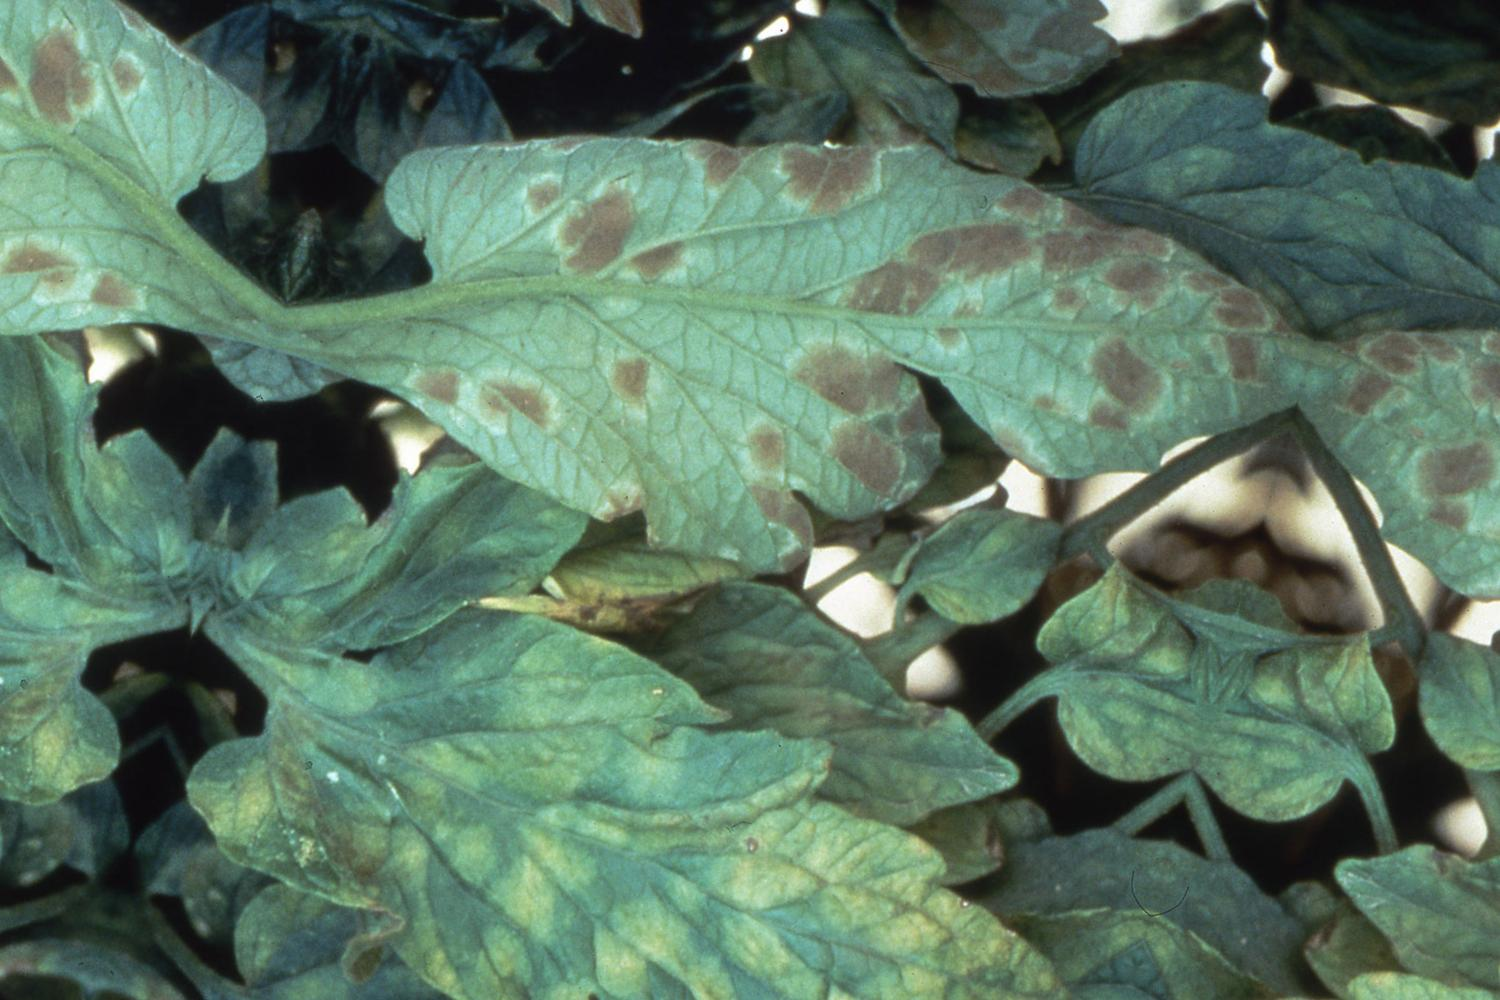Tomato mold leaf: (277, 0, 1343, 706), (150, 548, 1142, 1000), (171, 850, 897, 1000), (1001, 522, 1249, 808)
